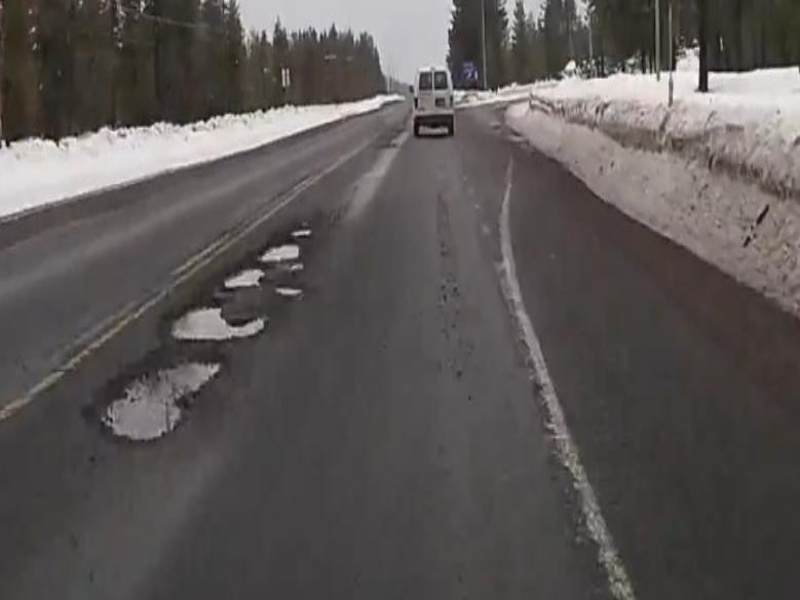pothole: (85, 353, 231, 445), (161, 300, 270, 343), (220, 265, 270, 287), (255, 242, 301, 263), (288, 223, 311, 239)
